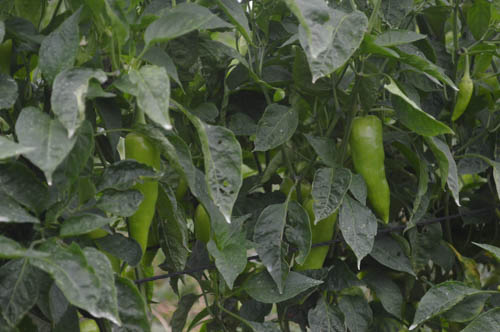ChiliPepper: (121, 132, 161, 265), (351, 117, 395, 222), (290, 196, 335, 273), (448, 78, 474, 125)
